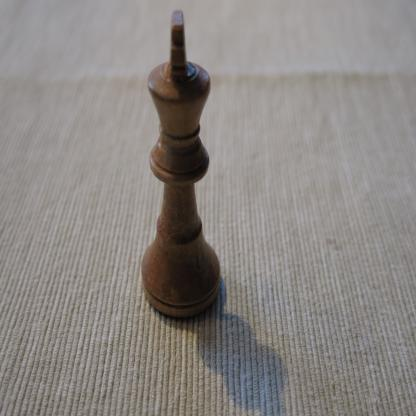white-king: (140, 8, 220, 320)
